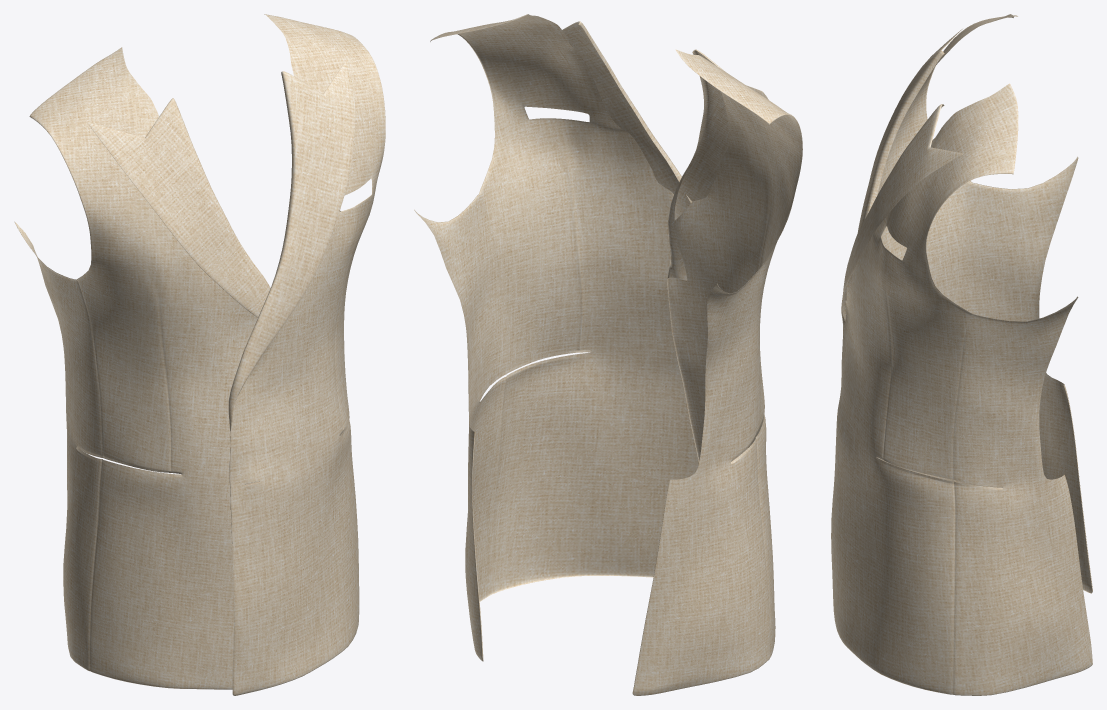
File: peak_double_breasted.glb
3 views of the same model, side by side, from view 1: azimuth 30°, elevation 25°; view 2: azimuth 150°, elevation 25°; view 3: azimuth 270°, elevation 25° (orthographic). The views are drawn at different scales.
Parts seen in each view (by area): view 1: peak_double_breasted; view 2: peak_double_breasted; view 3: peak_double_breasted.
Boxes of the visible parts, bbox=[...] form: peak_double_breasted: bbox=[14, 14, 385, 695]; peak_double_breasted: bbox=[414, 14, 802, 695]; peak_double_breasted: bbox=[831, 14, 1092, 695].
Bounding box in the file's own units: 0.0585 × 0.1017 × 0.0414.
Materials: 2 (1 with a texture image).
